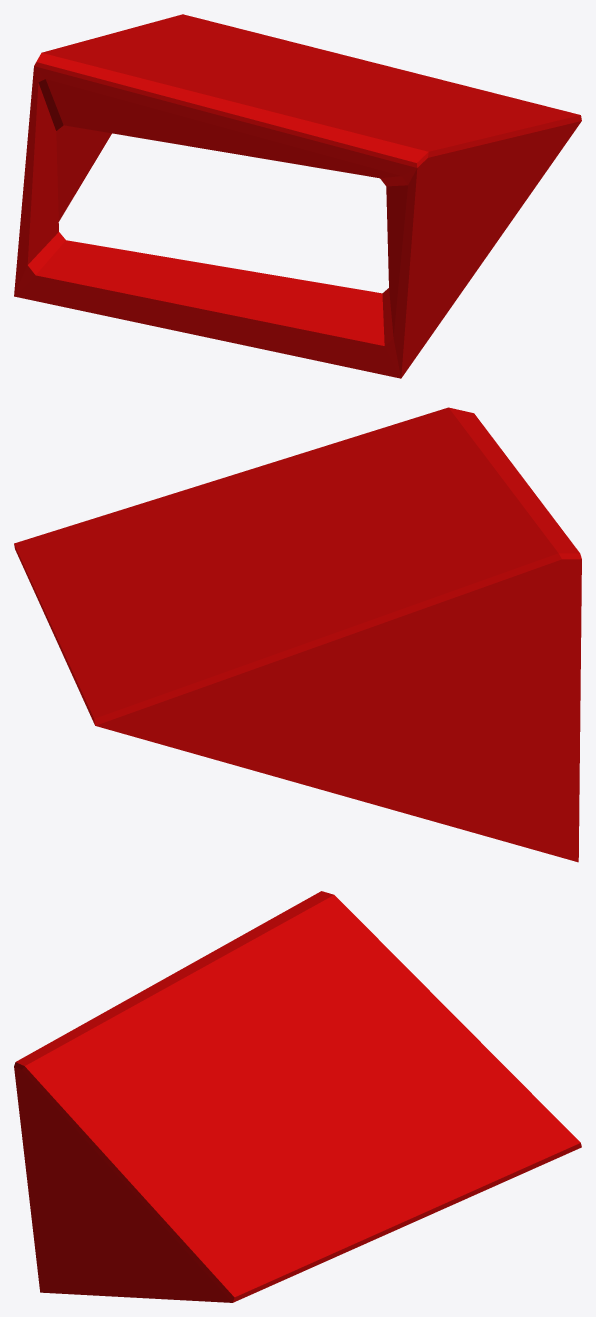
The model's file is ferrariLeftCase.glb.
3 renders of one model, top to bottom at view 1: azimuth 30°, elevation 25°; view 2: azimuth 150°, elevation 25°; view 3: azimuth 270°, elevation 25°, orthographic. The views are drawn at different scales.
Parts seen in each view (by area): view 1: PopupLeftCase; view 2: PopupLeftCase; view 3: PopupLeftCase.
Part boxes in pixels (left/top/right/bottom): PopupLeftCase: left=14, top=14, right=581, bottom=378; PopupLeftCase: left=14, top=407, right=581, bottom=862; PopupLeftCase: left=14, top=891, right=581, bottom=1302.
Size of the model in its own units: 4.51 by 2.31 by 4.15.
